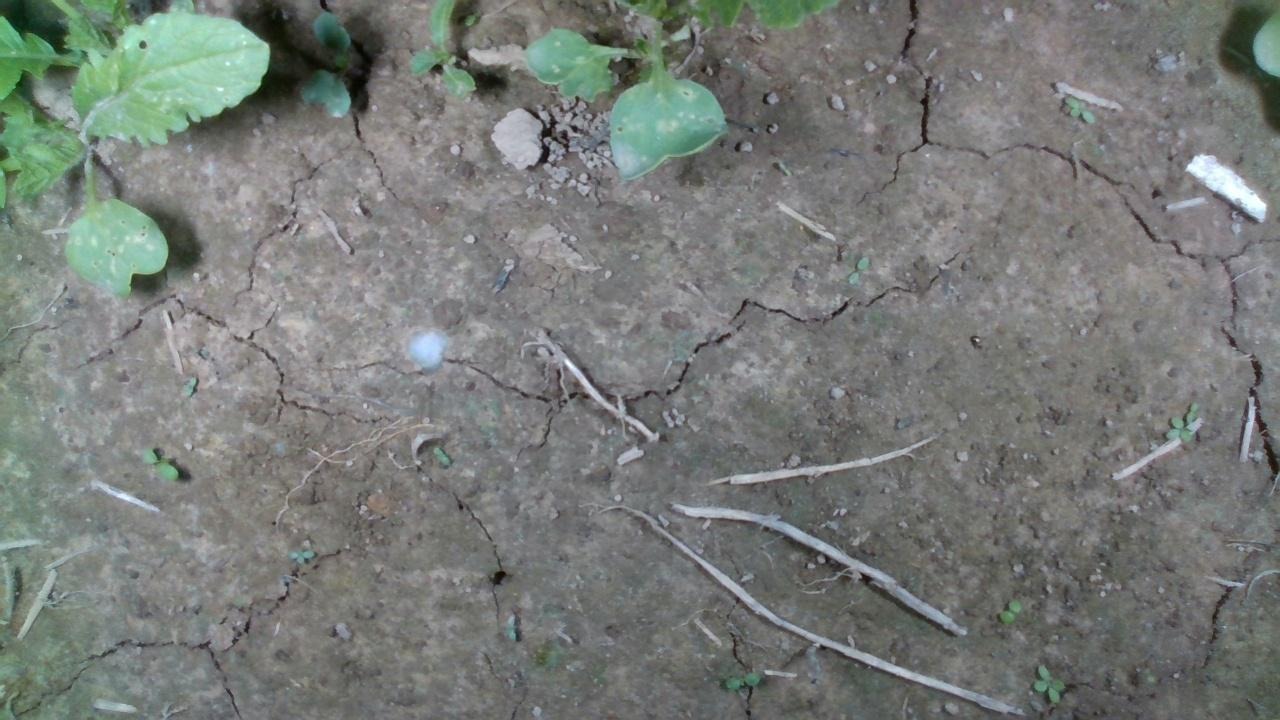weed: (137, 447, 178, 481), (1031, 663, 1065, 703), (846, 254, 870, 286), (721, 671, 758, 690), (998, 597, 1023, 624), (284, 543, 315, 564), (432, 445, 451, 468)
